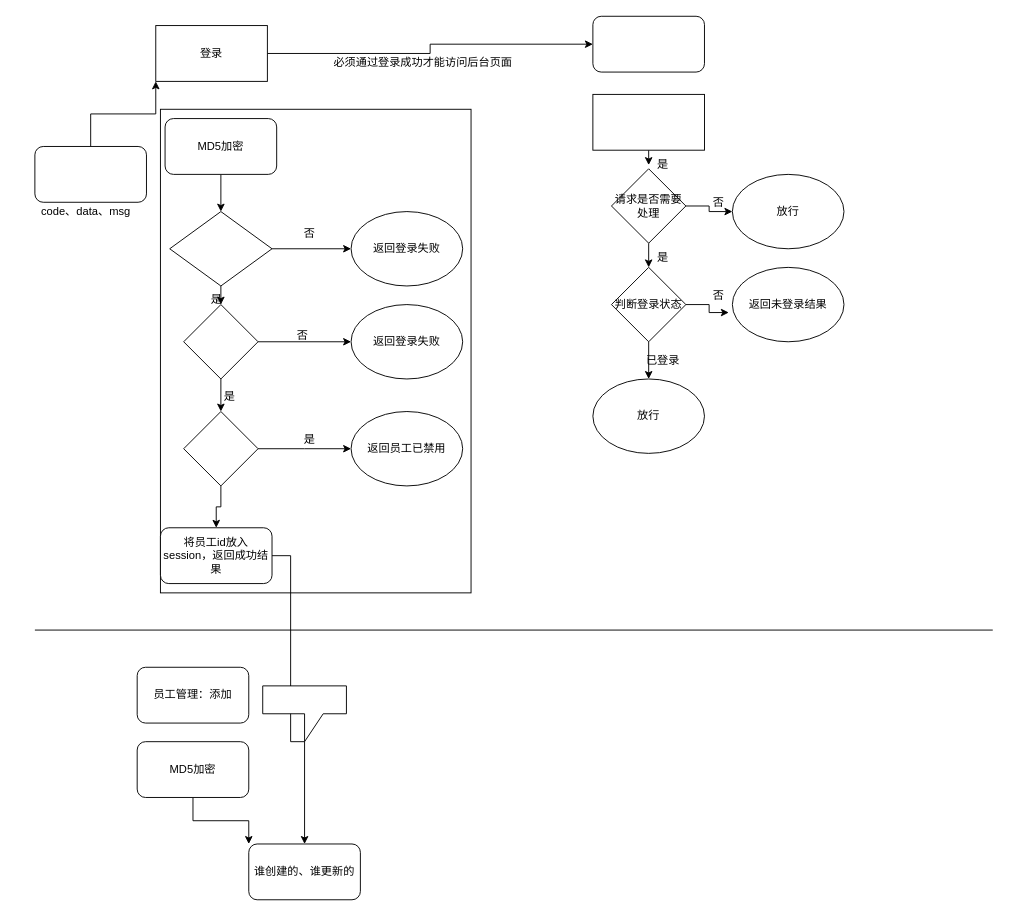
The diagram is 1010 pixels wide and 916 high, and some of its shapes have lost their labels. The box of each missing label's shape, as (x1, y1, x2, y2) in pixels:
R类—通用返回结果: (34, 146, 146, 202)
url: (592, 93, 704, 150)
员工是否禁用: (183, 411, 258, 486)
密码比对: (183, 304, 258, 379)
根据数据库查询数据库: (169, 211, 272, 286)
过滤器实现逻辑: (592, 15, 704, 72)
（employee，Id）: (262, 685, 346, 742)
